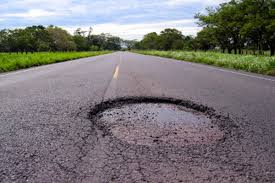pothole: (88, 93, 243, 162)
